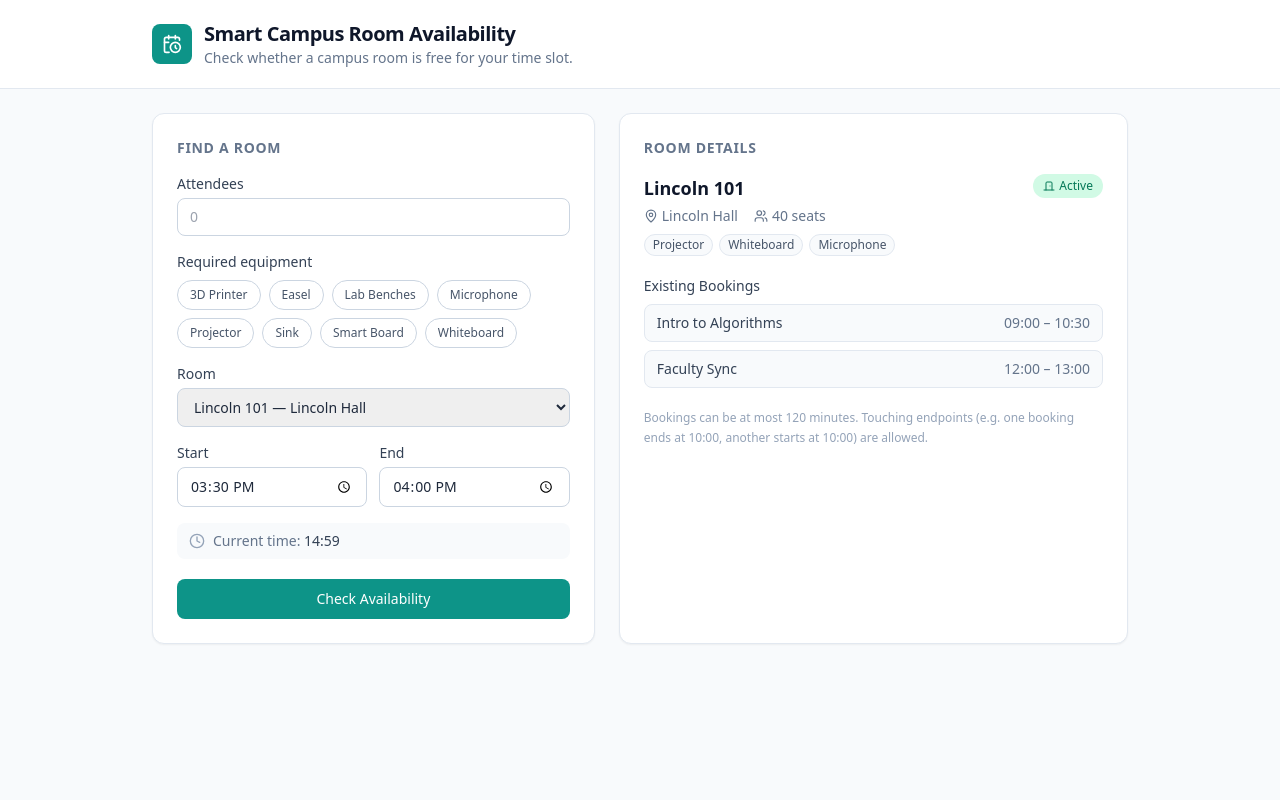
Test: RoomChecker UI › F4: shows 'No rooms match your requirements.' when attendees exceed all capacities
Type "100" into the number field with placeholder "0" at (373, 217), box left=177, top=198, right=570, bottom=236
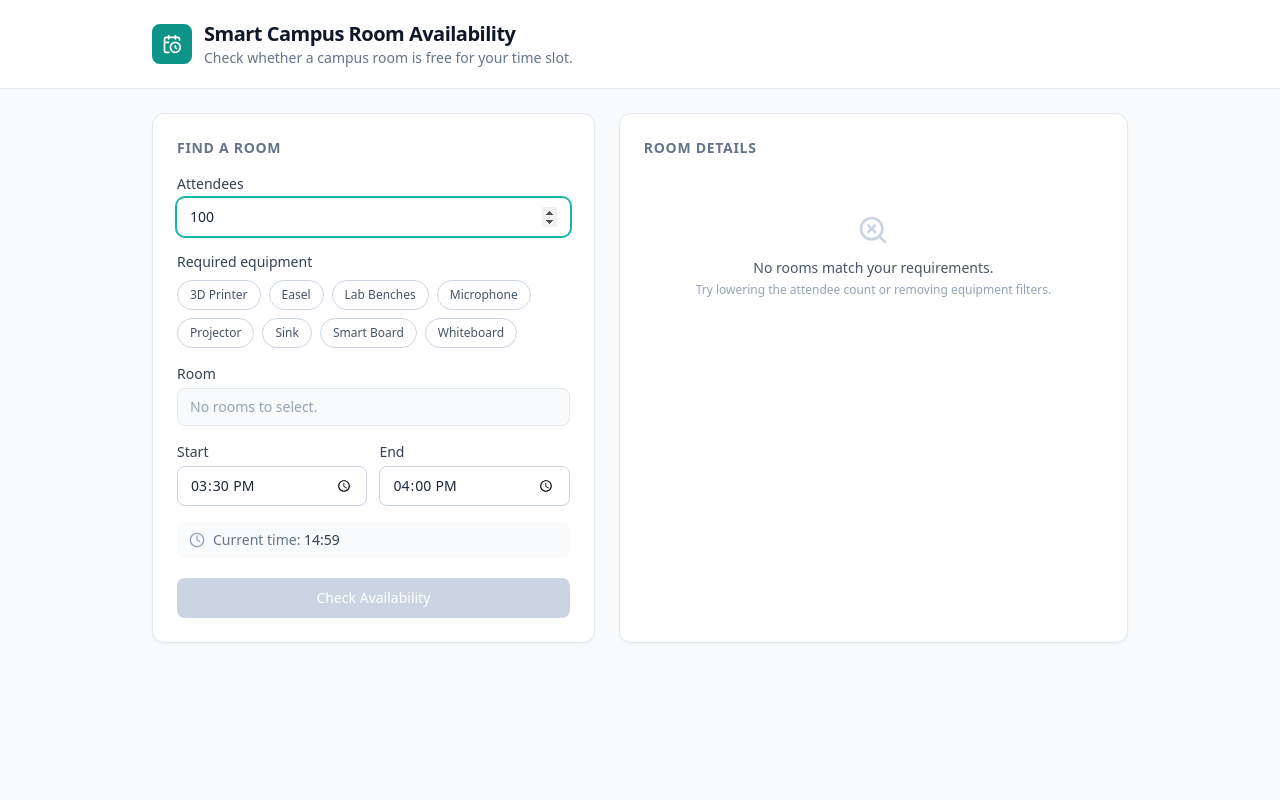
Now the text "No rooms match your requirements." is shown, box left=753, top=258, right=994, bottom=278
